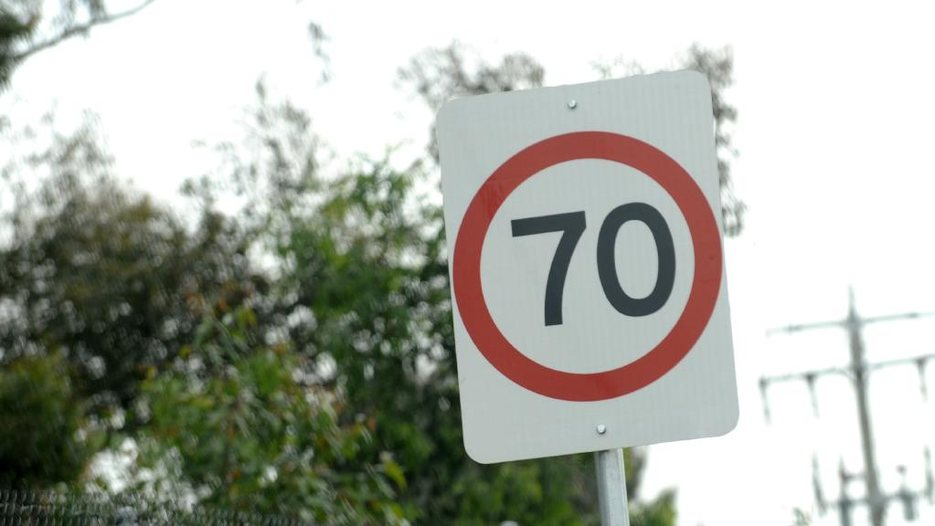Speed_limit_70km: (450, 131, 723, 402)
